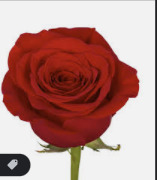RedRose: (1, 20, 151, 153)
